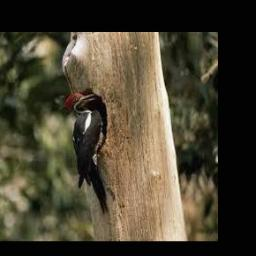Woodpecker: (65, 92, 109, 213)
